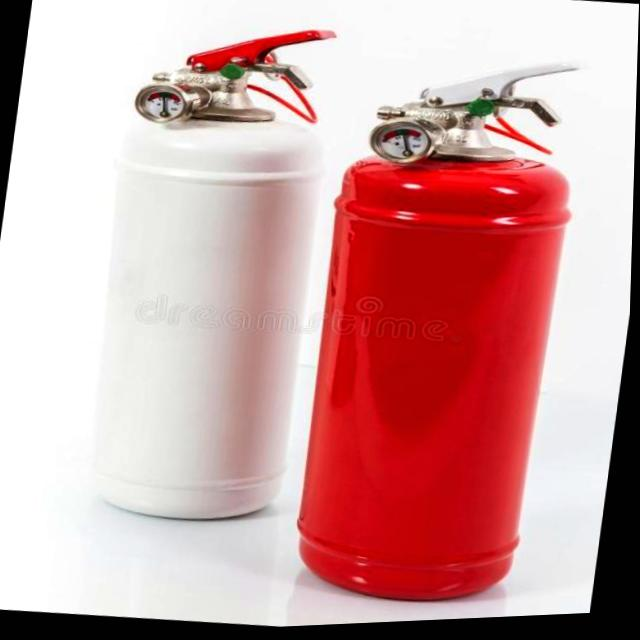FireExtinguisher: (277, 40, 600, 627), (67, 9, 354, 538)
